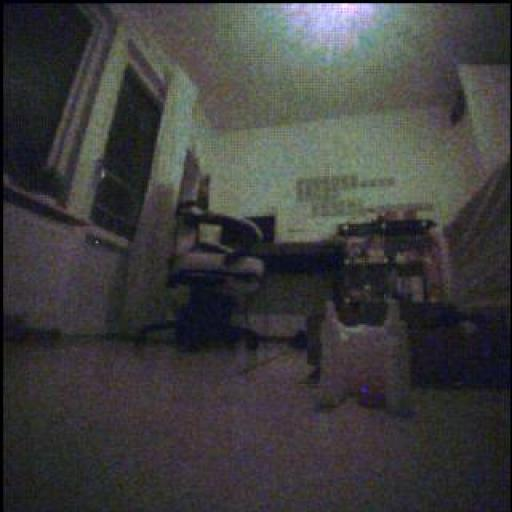basket: (358, 372, 392, 412)
